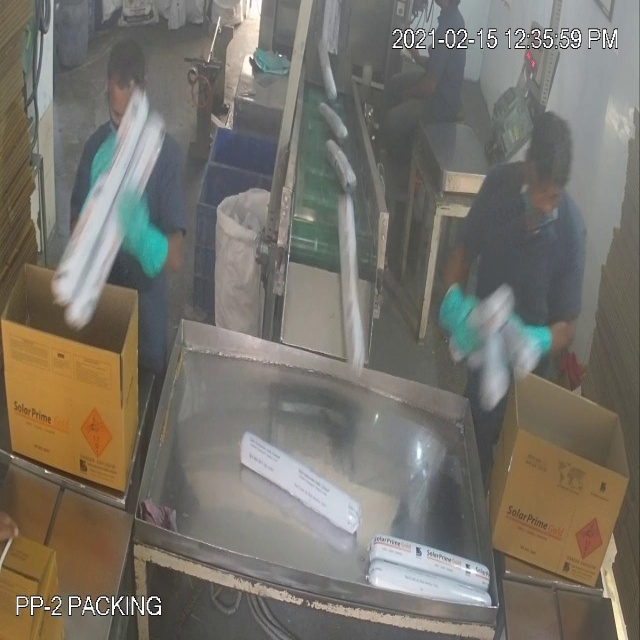Guantes: (115, 182, 168, 290)
Sin_guantes: (393, 70, 446, 112)
